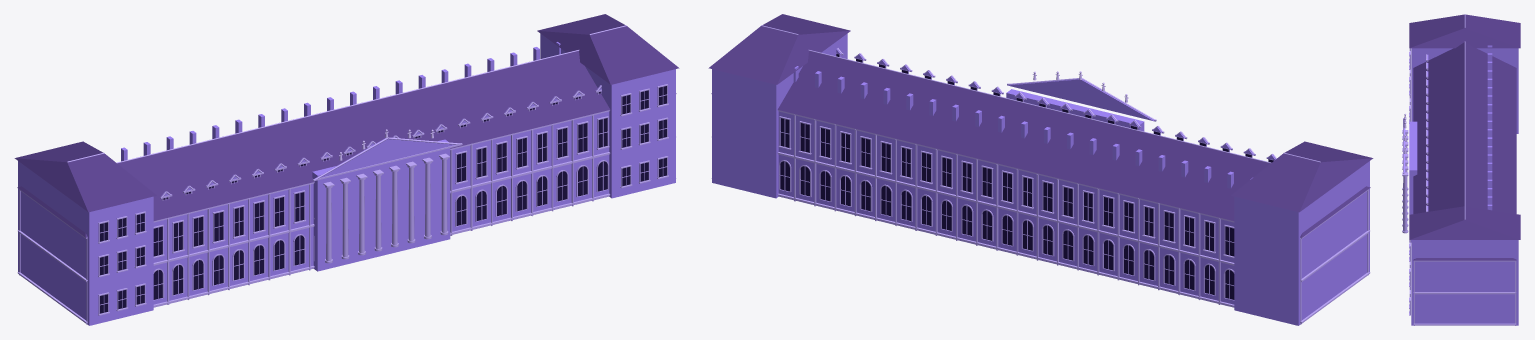
The model's file is capitole_violet_light.glb.
The picture shows the model from 3 angles, left to right: view 1: azimuth 30°, elevation 25°; view 2: azimuth 150°, elevation 25°; view 3: azimuth 270°, elevation 25°; orthographic projection. The views are drawn at different scales.
Visible parts, largest first — view 1: Violet stone, Violet slate, Lavender carved stone, Recessed glazing; view 2: Violet stone, Violet slate, Lavender carved stone, Recessed glazing; view 3: Violet slate, Violet stone, Lavender carved stone.
Boxes of the visible parts, x1,y1,x2,y2 form: Violet stone: (18,33,675,325); Violet slate: (14,14,679,237); Lavender carved stone: (17,25,676,324); Recessed glazing: (100,86,666,313); Violet stone: (712,33,1369,325); Violet slate: (708,14,1373,237); Lavender carved stone: (711,25,1370,324); Recessed glazing: (780,54,1273,299); Violet slate: (1409,14,1520,260); Violet stone: (1404,45,1518,325); Lavender carved stone: (1402,14,1516,325).
Bounding box in the file's own units: 124 × 27 × 28.58.
